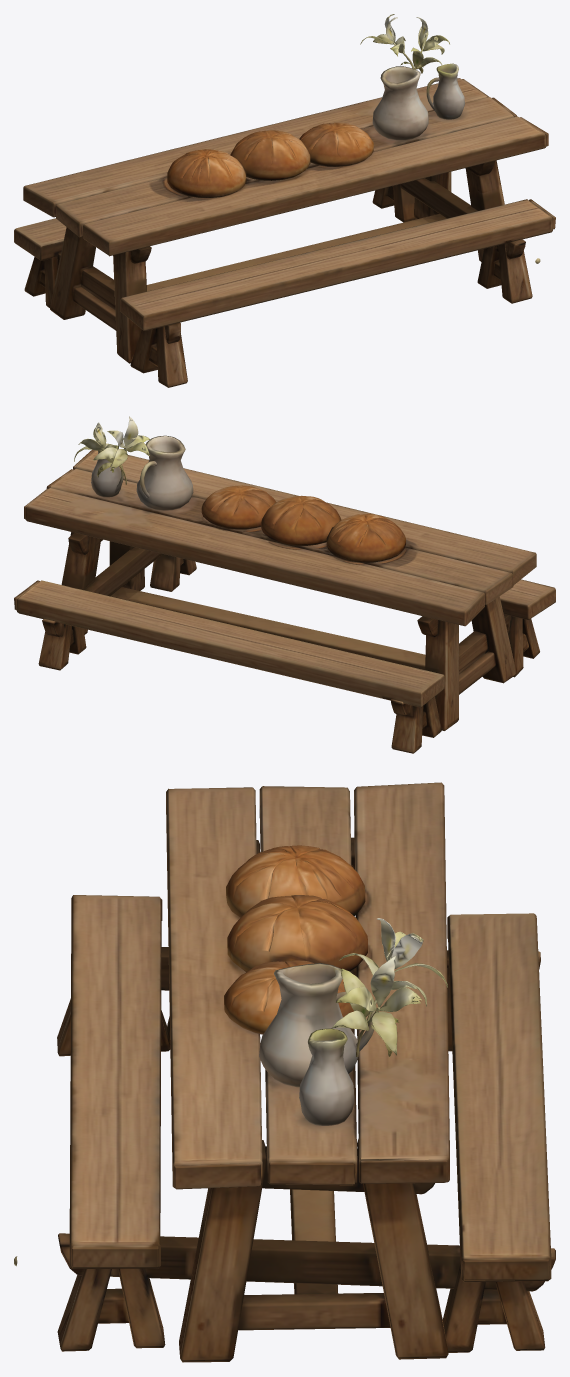
Rendered from act1_kit_v1_refectory_table.glb.
3 views of the same model, one above another, from view 1: azimuth 30°, elevation 25°; view 2: azimuth 150°, elevation 25°; view 3: azimuth 270°, elevation 25° (orthographic). The views are drawn at different scales.
Parts seen in each view (by area): view 1: act1_kit_v1_refectory_table; view 2: act1_kit_v1_refectory_table; view 3: act1_kit_v1_refectory_table.
Part boxes in pixels (x1,y1,x2,y2): act1_kit_v1_refectory_table: (14,14,555,387); act1_kit_v1_refectory_table: (14,416,555,753); act1_kit_v1_refectory_table: (14,782,555,1362).
Bounding box in the file's own units: 1 × 0.4799 × 0.596.
Materials: 1 (1 with a texture image).
